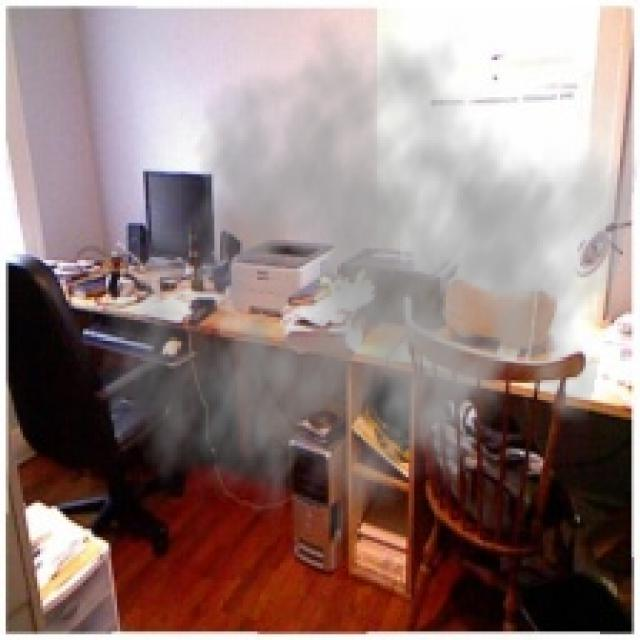smoke: (97, 14, 637, 572)
